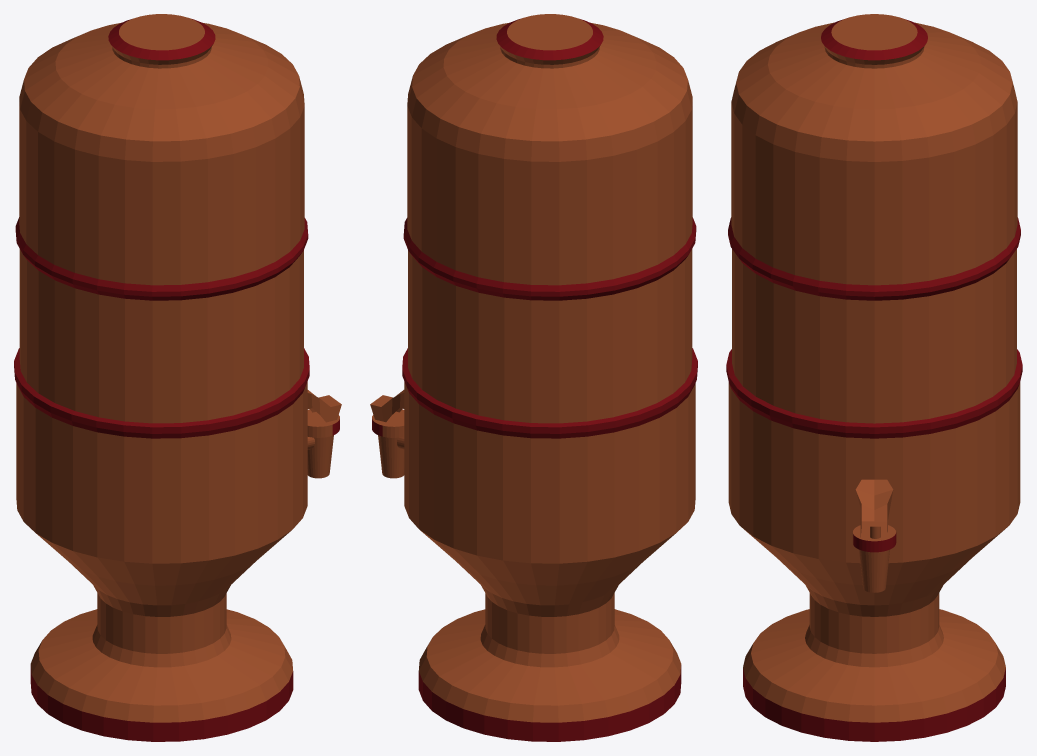
The model's file is Bebedouro (1).glb.
The picture shows the model from 3 angles, left to right: view 1: azimuth 30°, elevation 25°; view 2: azimuth 150°, elevation 25°; view 3: azimuth 270°, elevation 25°; orthographic projection.
Visible parts, largest first — view 1: Círculo, Cilindro, Plano; view 2: Círculo, Cilindro, Plano; view 3: Círculo, Cilindro, Plano.
Part boxes in pixels (x1,y1,x2,y2): Círculo: (14, 14, 309, 741); Cilindro: (307, 409, 339, 478); Plano: (307, 390, 341, 422); Círculo: (402, 14, 697, 741); Cilindro: (372, 409, 404, 478); Plano: (370, 390, 404, 422); Círculo: (726, 14, 1022, 741); Cilindro: (852, 525, 896, 592); Plano: (855, 479, 893, 537).
Bounding box in the file's own units: 4.57 × 9.41 × 3.86.
